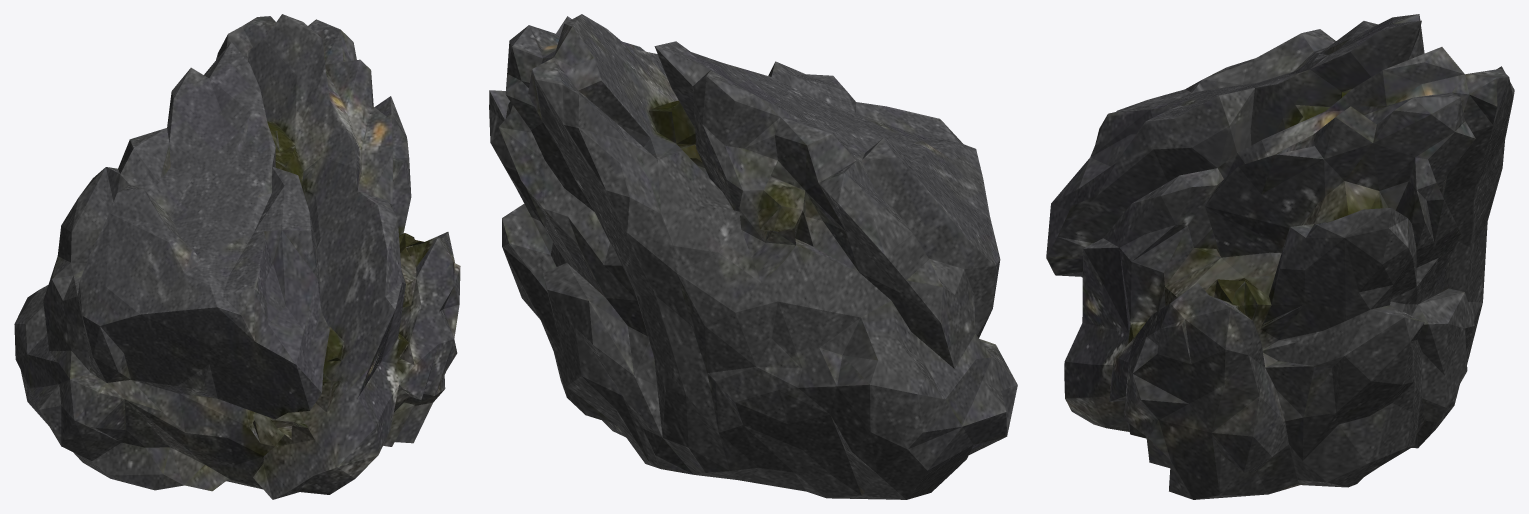
File: boulder_b.glb
The picture shows the model from 3 angles, left to right: view 1: azimuth 30°, elevation 25°; view 2: azimuth 150°, elevation 25°; view 3: azimuth 270°, elevation 25°; orthographic projection. The views are drawn at different scales.
Visible parts, largest first — view 1: lo; view 2: lo; view 3: lo.
Boxes of the visible parts, x1,y1,x2,y2 form: lo: [14, 14, 460, 499]; lo: [489, 14, 1017, 499]; lo: [1046, 14, 1514, 499].
Bounding box in the file's own units: 1 × 0.8832 × 0.8542.
Materials: 1 (1 with a texture image).
